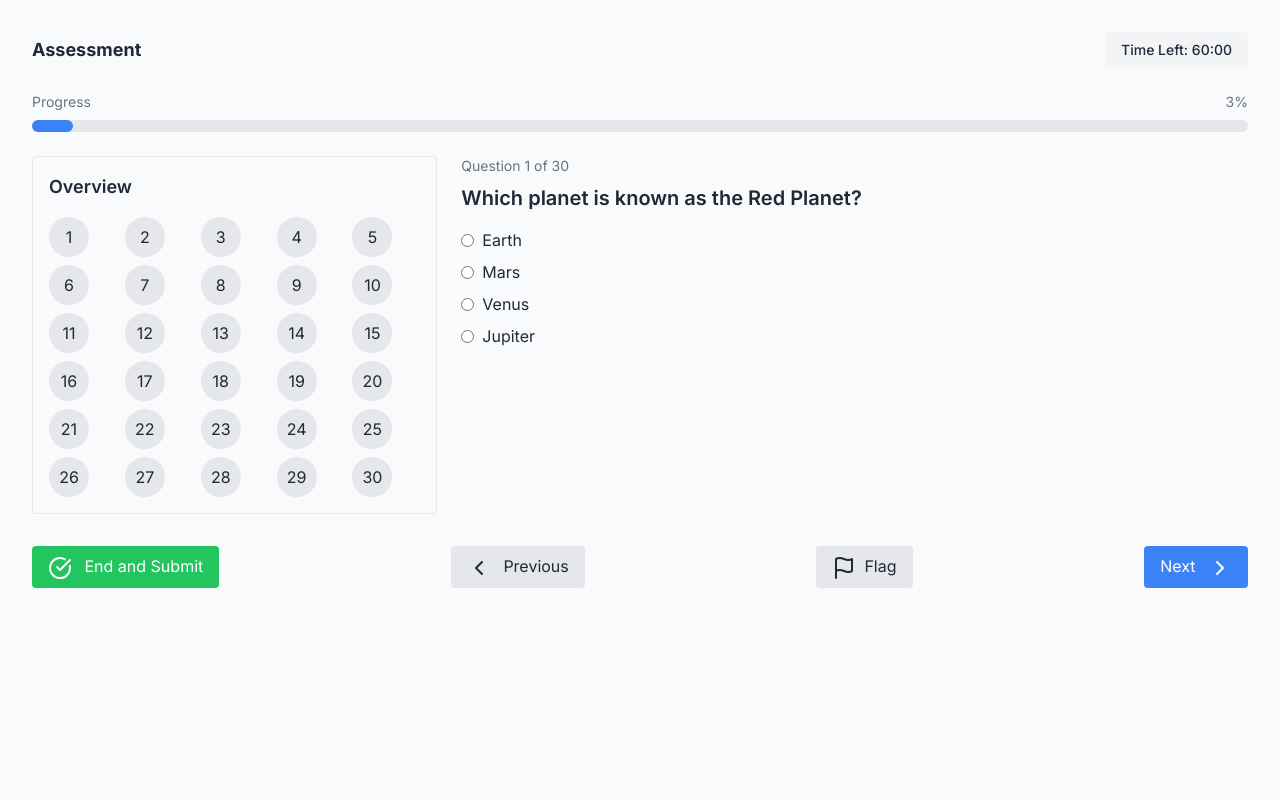
ExamPage Component › cancels the submission popup
The image size is (1280, 800).
Click the button "End and Submit": {"x": 126, "y": 567} [32,546,219,588]
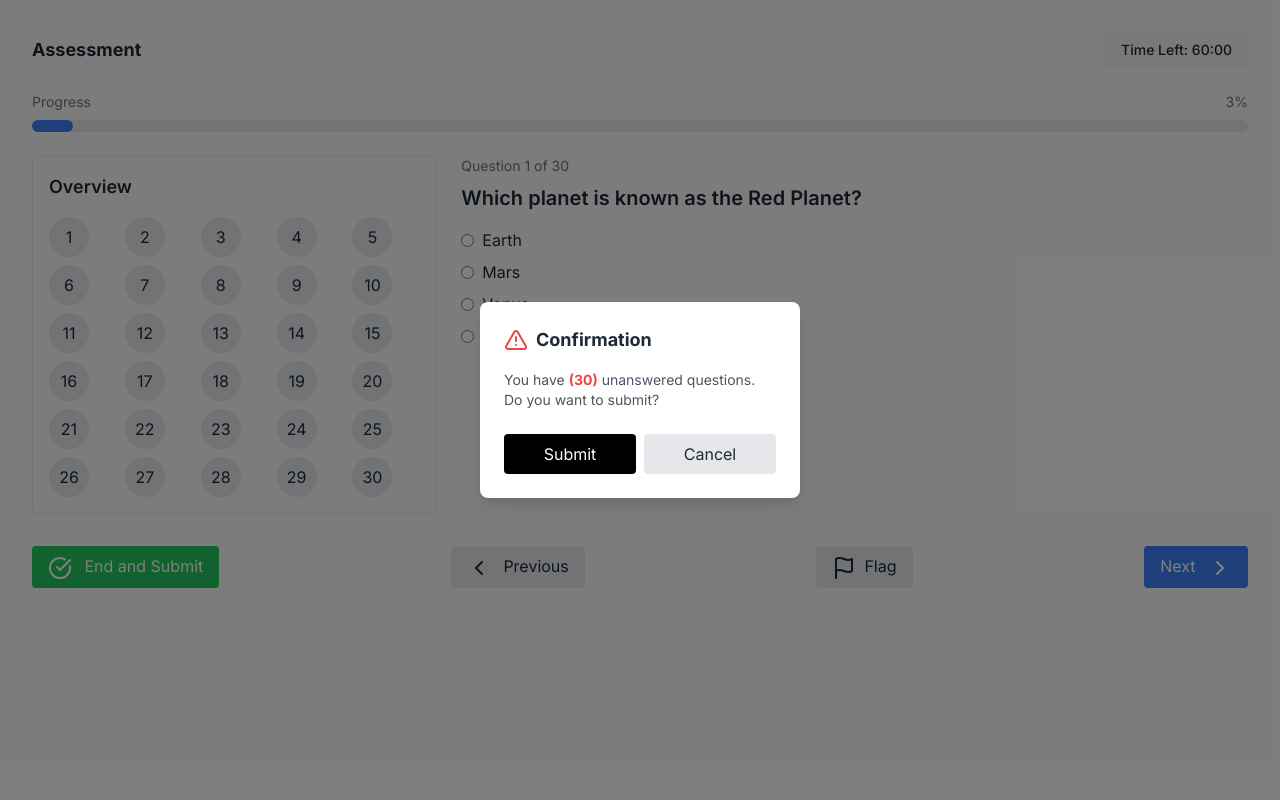
Click the button "Cancel": {"x": 710, "y": 454} [644,434,776,474]
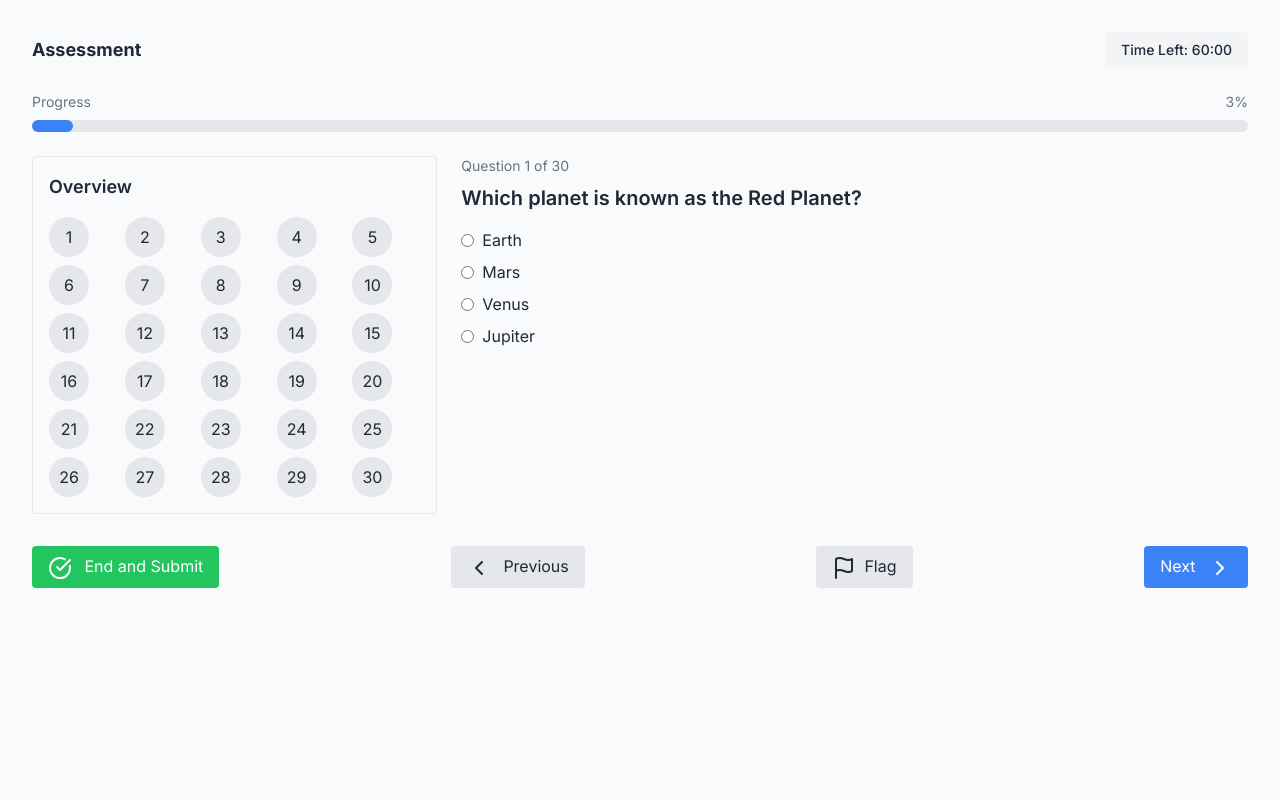
expect the text "Do you want to submit?" is gone: met
